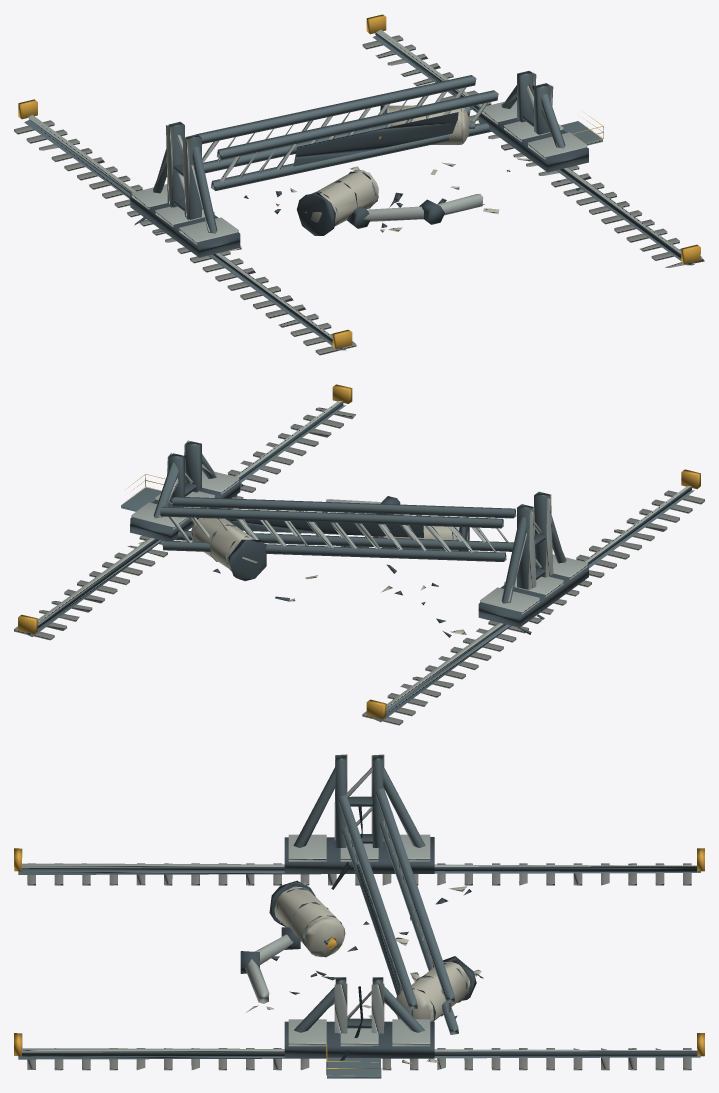
File: terraformer_3000_d3_lod2.glb
The picture shows the model from 3 angles, top to bottom: view 1: azimuth 30°, elevation 25°; view 2: azimuth 150°, elevation 25°; view 3: azimuth 270°, elevation 25°; orthographic projection. The views are drawn at different scales.
Visible parts, largest first — view 1: TERRAFORMER_3000_LOD2_STATIC_GEOMETRY; view 2: TERRAFORMER_3000_LOD2_STATIC_GEOMETRY; view 3: TERRAFORMER_3000_LOD2_STATIC_GEOMETRY.
Part boxes in pixels (<box>): TERRAFORMER_3000_LOD2_STATIC_GEOMETRY: <box>14,14,704,355</box>; TERRAFORMER_3000_LOD2_STATIC_GEOMETRY: <box>14,384,704,725</box>; TERRAFORMER_3000_LOD2_STATIC_GEOMETRY: <box>14,754,704,1078</box>.
Size of the model in its own units: 39.26 by 9.54 by 50.59.
